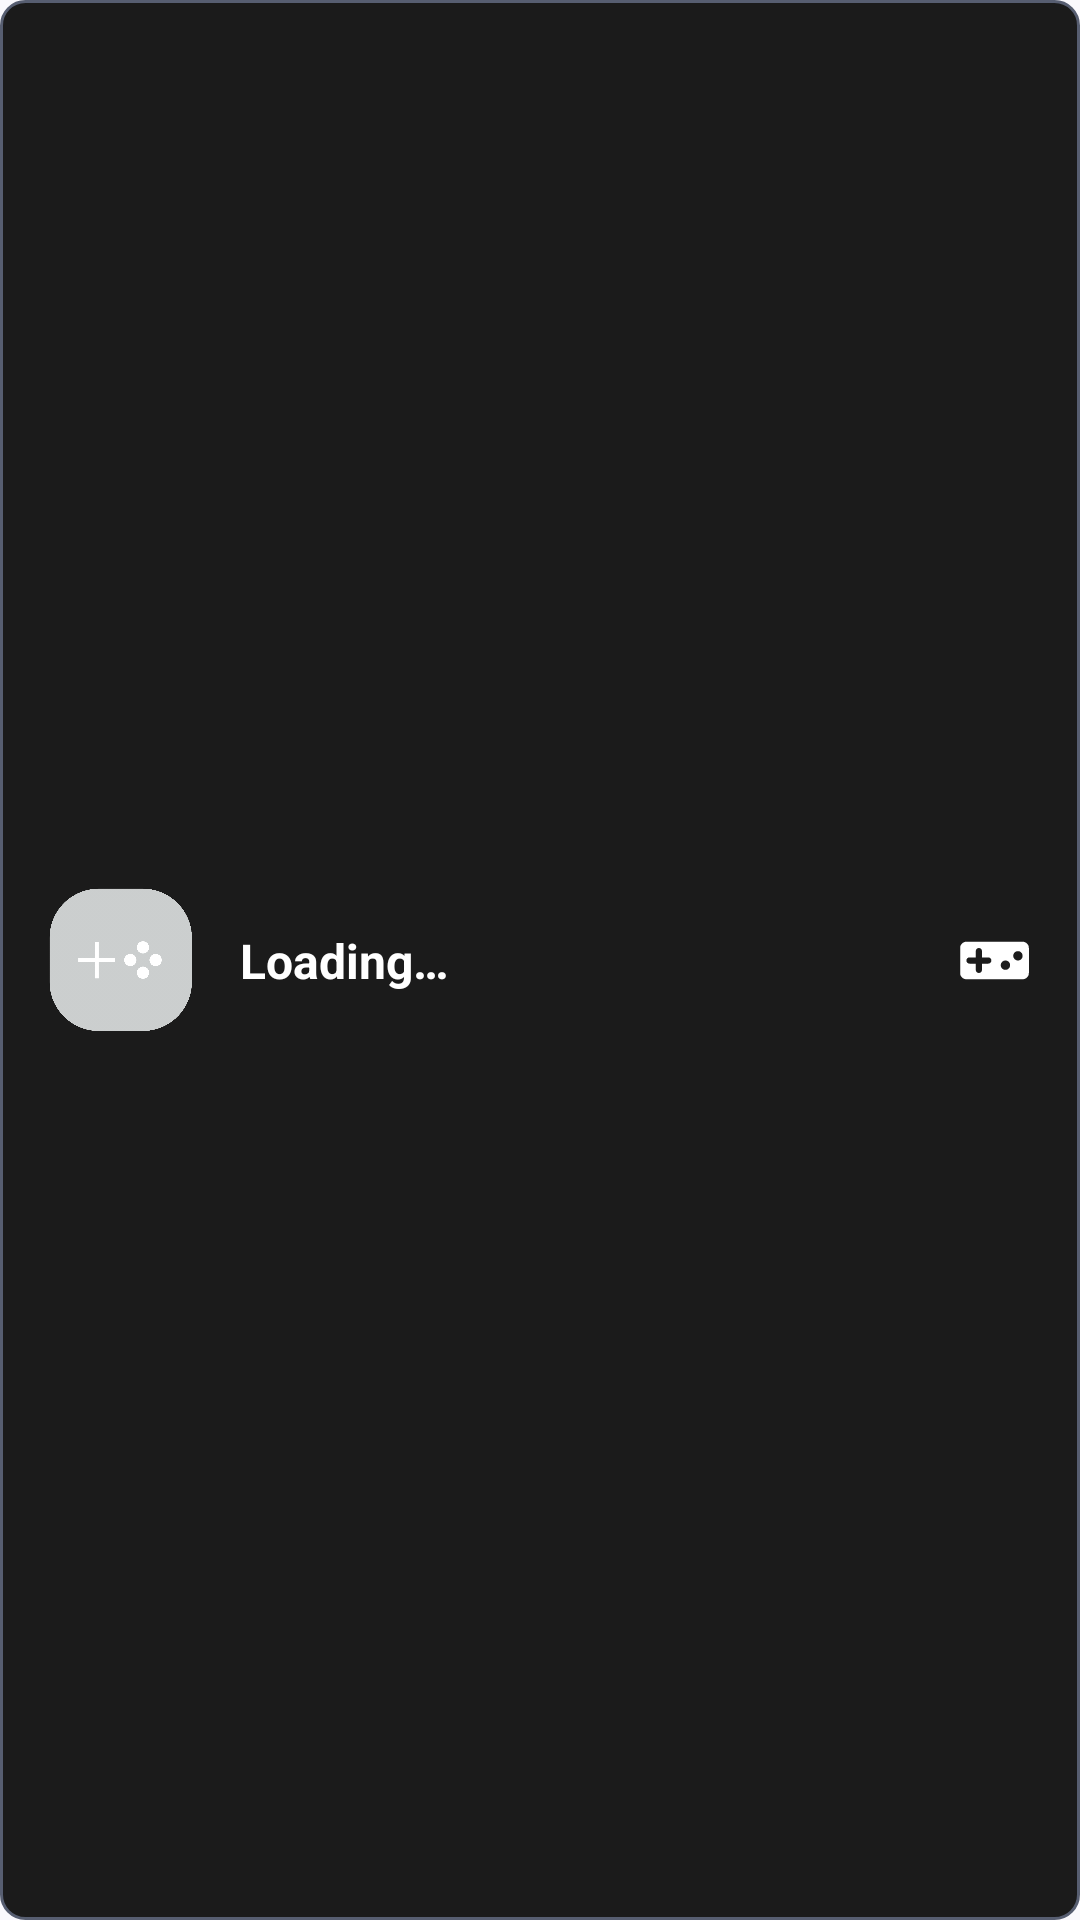

Icon click points for this 1080w x 1920h phone screenshot, format (x=x, y=y):
game unknown: (x=121, y=960)
start game: (x=994, y=960)
